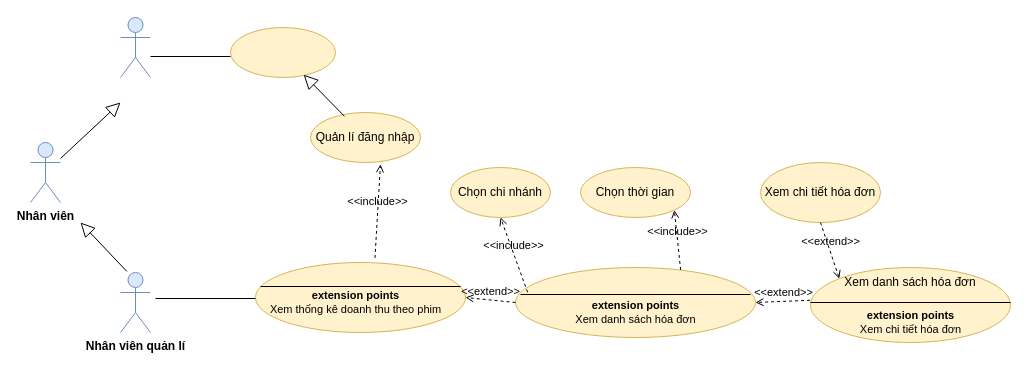
The diagram is 1028 pixels wide and 371 high, and some of its shapes have lost their labels. Each missing label, with the box of its shape:
Thành viên: (120, 16, 150, 78)
Xem báo cáo thống kê: (254, 262, 466, 332)
Xem thống kê theo chi nhánh: (514, 266, 756, 338)
Đăng nhập: (230, 26, 336, 78)
